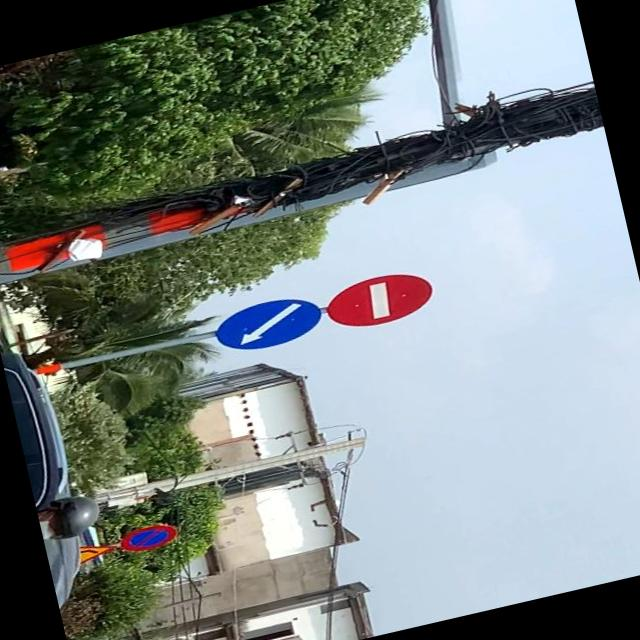P-102: (322, 264, 438, 334)
P-131a: (123, 520, 179, 555)
R-302a: (210, 290, 326, 359)
